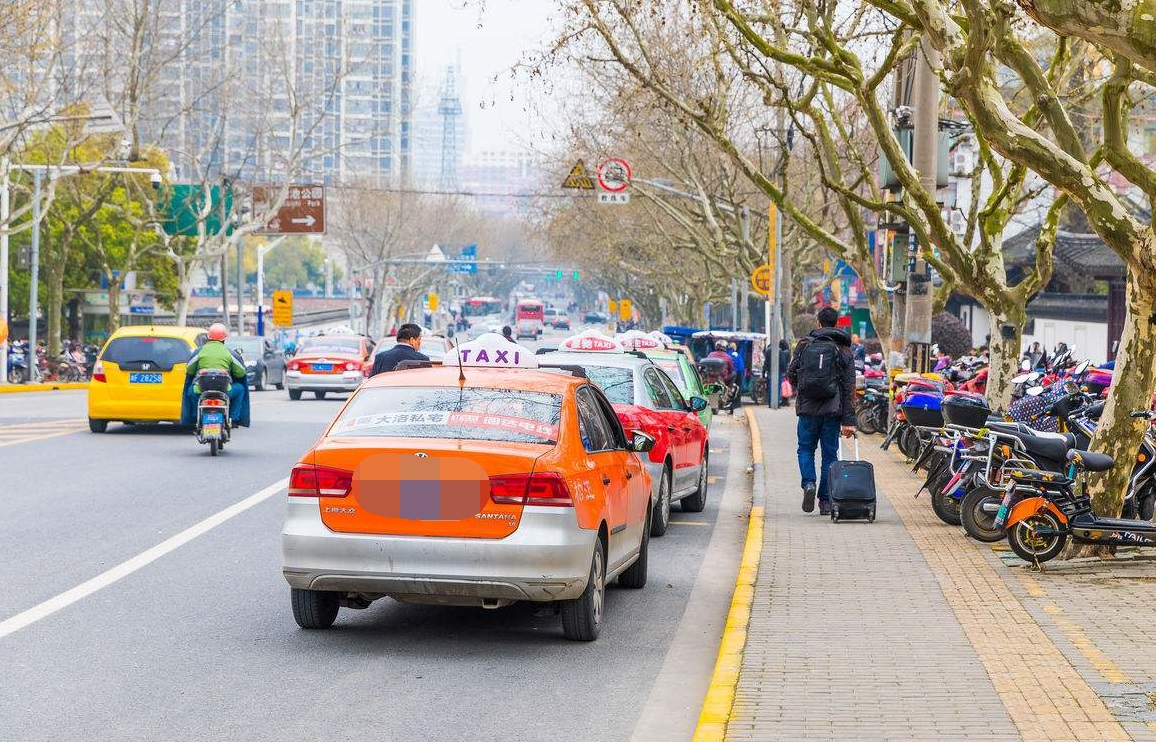taxi: (281, 332, 653, 653)
